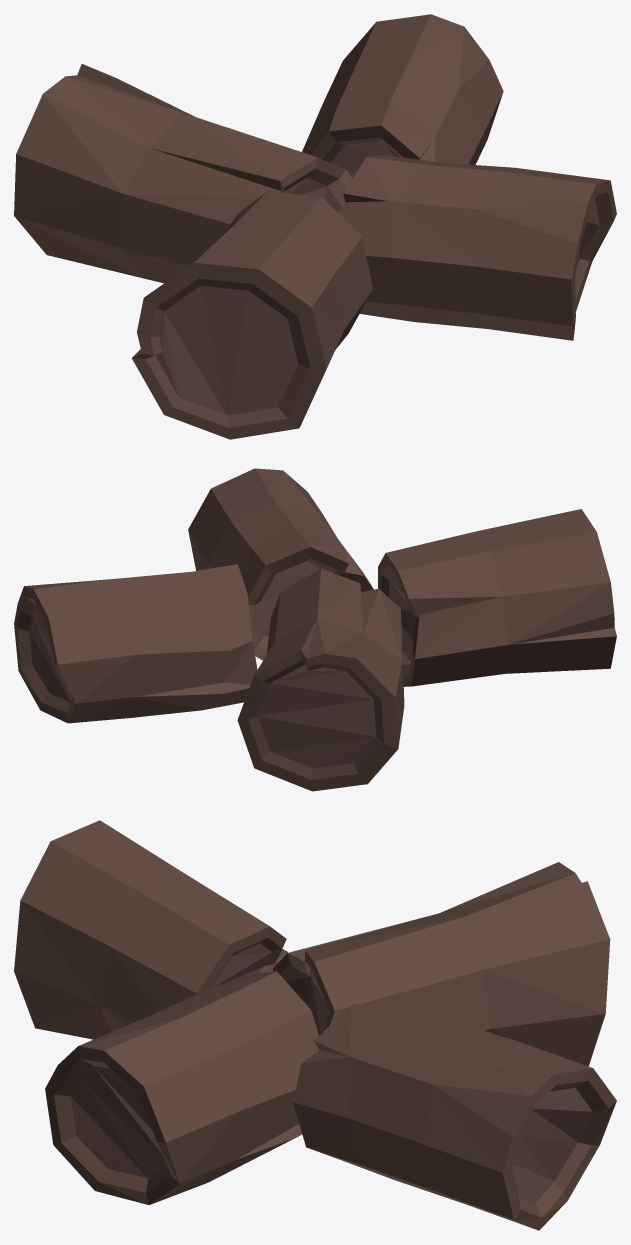
3 renders of one model, top to bottom at view 1: azimuth 30°, elevation 25°; view 2: azimuth 150°, elevation 25°; view 3: azimuth 270°, elevation 25°, orthographic. The views are drawn at different scales.
Parts seen in each view (by area): view 1: world; view 2: world; view 3: world.
Boxes of the visible parts, x1,y1,x2,y2 form: world: [14, 14, 616, 439]; world: [14, 468, 616, 791]; world: [14, 820, 616, 1230].
Bounding box in the file's own units: 0.8749 × 0.2717 × 0.7979.
Materials: 1 (1 with a texture image).
